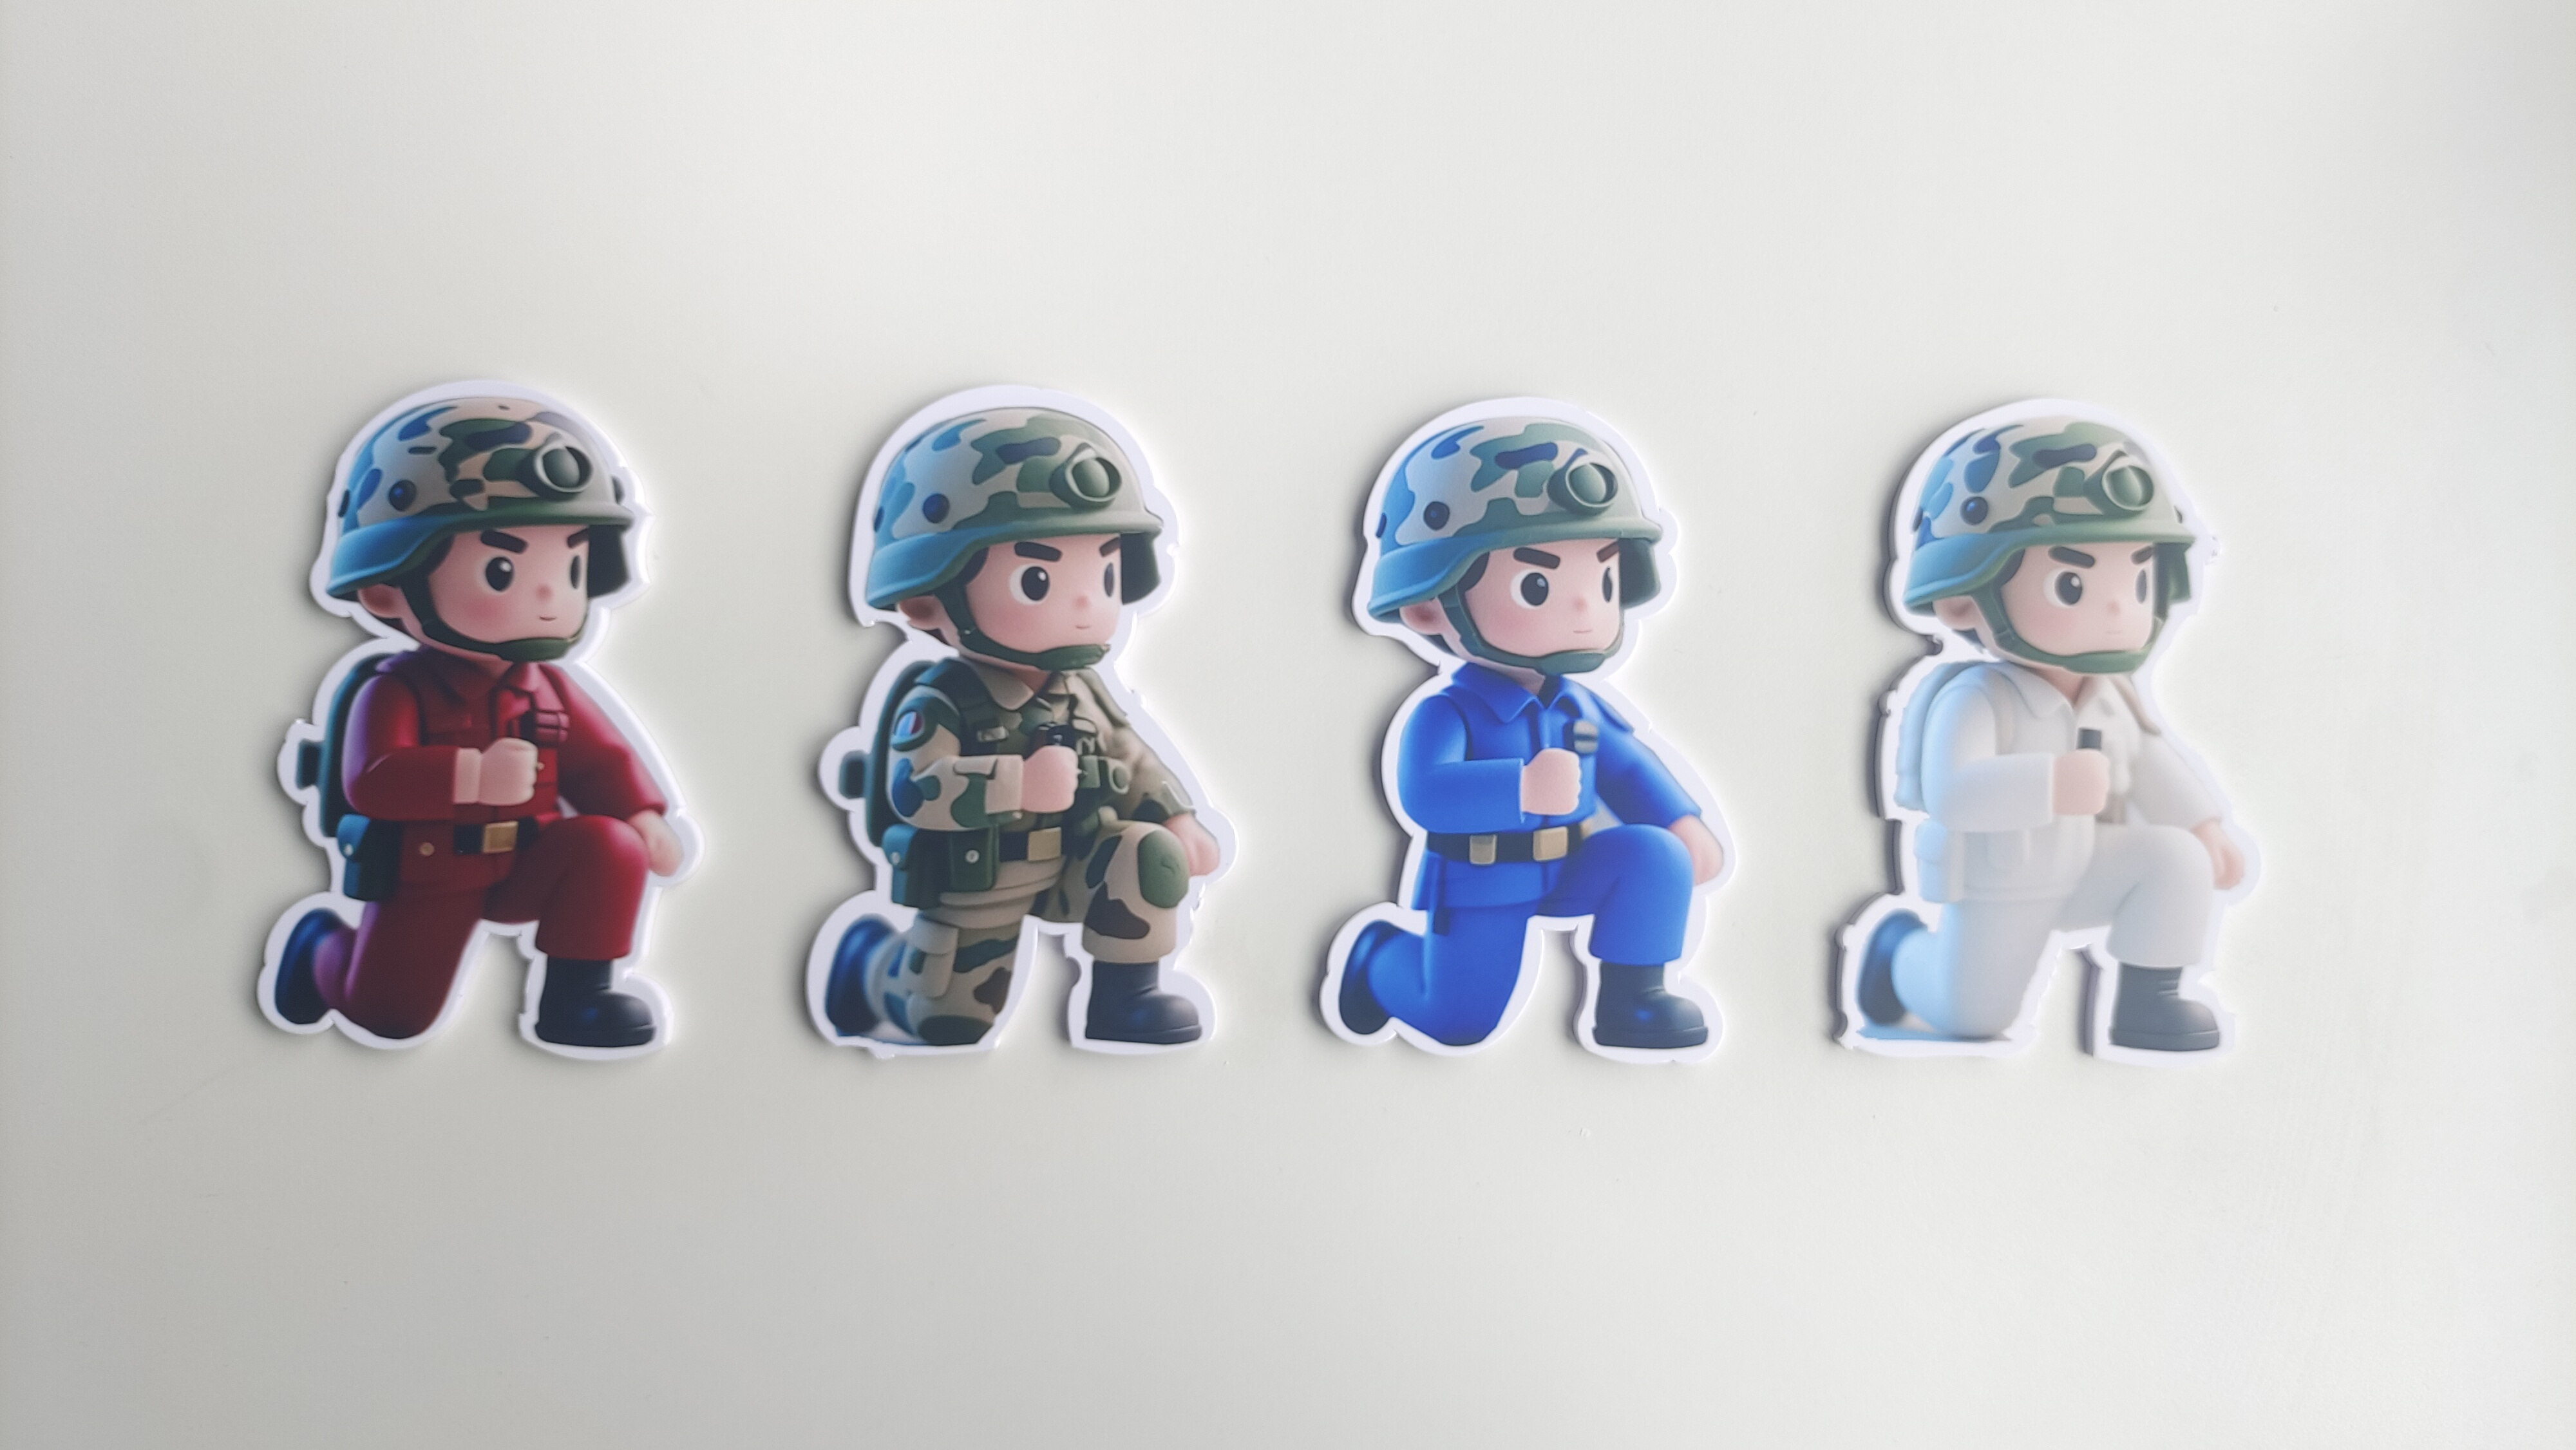enemy1: (249, 644, 679, 1065)
enemy2: (1295, 683, 1732, 1057)
friend: (784, 654, 1247, 1073)
hostage: (1801, 674, 2265, 1061)
